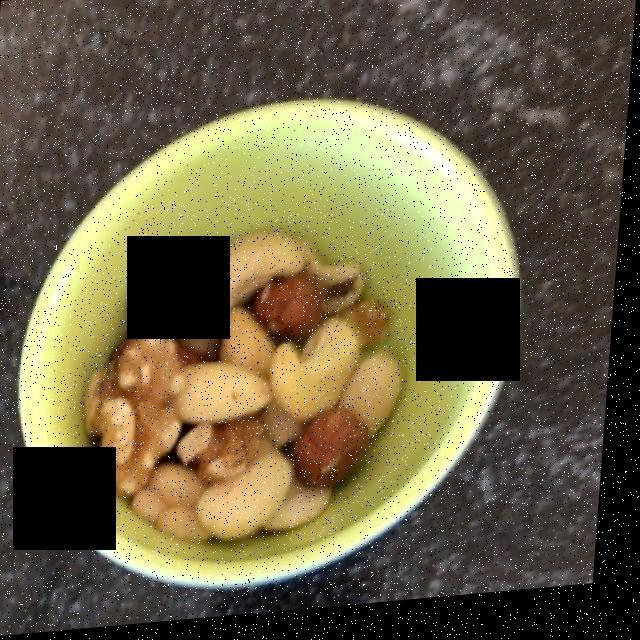mixed-nuts: (93, 237, 404, 544)
